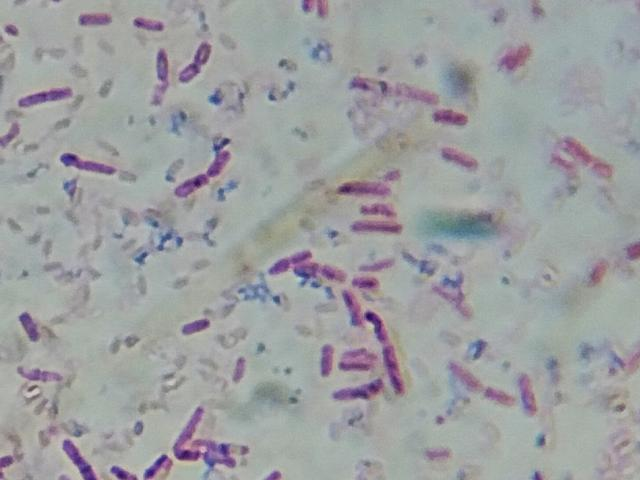E. coli: (368, 309, 409, 400), (171, 147, 236, 199), (448, 363, 508, 416), (345, 70, 441, 101), (561, 130, 605, 177), (511, 362, 540, 423), (57, 431, 92, 480), (20, 83, 73, 115), (162, 402, 207, 439), (191, 436, 247, 464), (180, 37, 210, 87), (436, 142, 480, 175), (338, 379, 384, 410), (65, 149, 113, 178), (336, 173, 400, 194), (16, 360, 63, 387), (351, 216, 408, 238), (134, 451, 169, 480), (129, 13, 169, 38), (293, 262, 342, 282), (341, 345, 367, 382), (346, 197, 398, 215), (76, 5, 112, 30), (175, 317, 217, 338), (16, 303, 38, 341), (153, 47, 172, 88), (271, 247, 305, 269), (343, 285, 359, 330), (432, 105, 467, 125), (319, 337, 333, 383), (0, 445, 21, 474), (352, 267, 375, 287), (104, 464, 126, 480)
